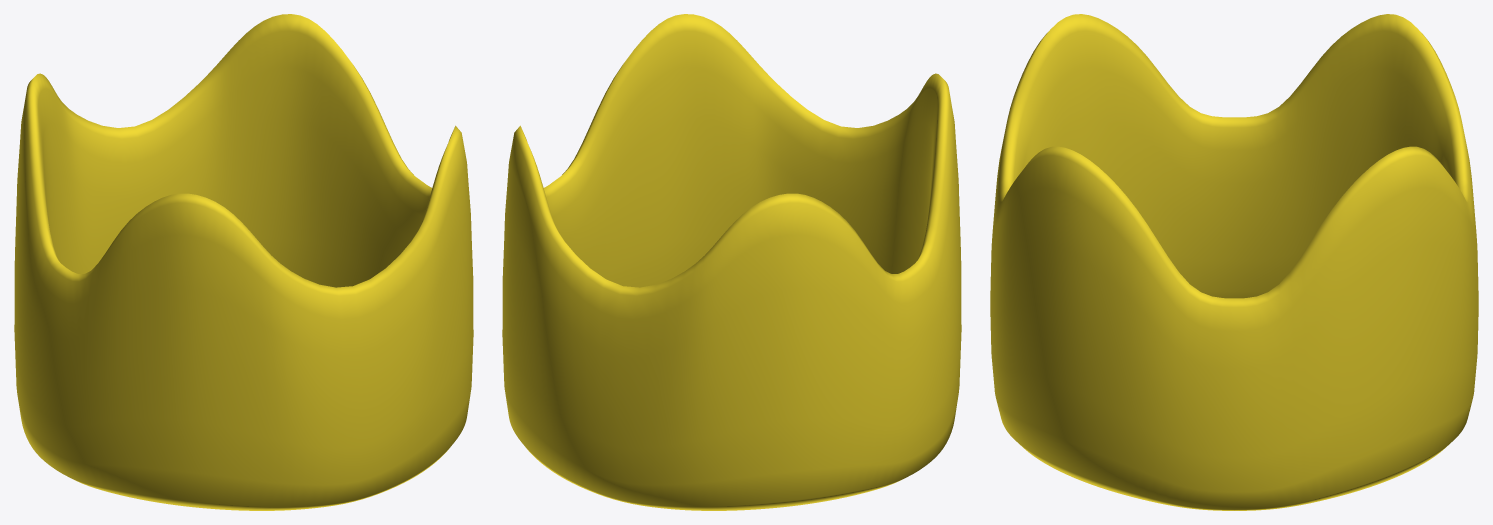
File: sebrae.glb
3 renders of one model, left to right at view 1: azimuth 30°, elevation 25°; view 2: azimuth 150°, elevation 25°; view 3: azimuth 270°, elevation 25°, orthographic. The views are drawn at different scales.
Parts seen in each view (by area): view 1: Circle_0; view 2: Circle_0; view 3: Circle_0.
Part boxes in pixels (x1,y1,x2,y2): Circle_0: (14, 14, 473, 510); Circle_0: (502, 14, 961, 510); Circle_0: (990, 14, 1478, 510).
Size of the model in its own units: 1.14 by 0.8796 by 1.17.
